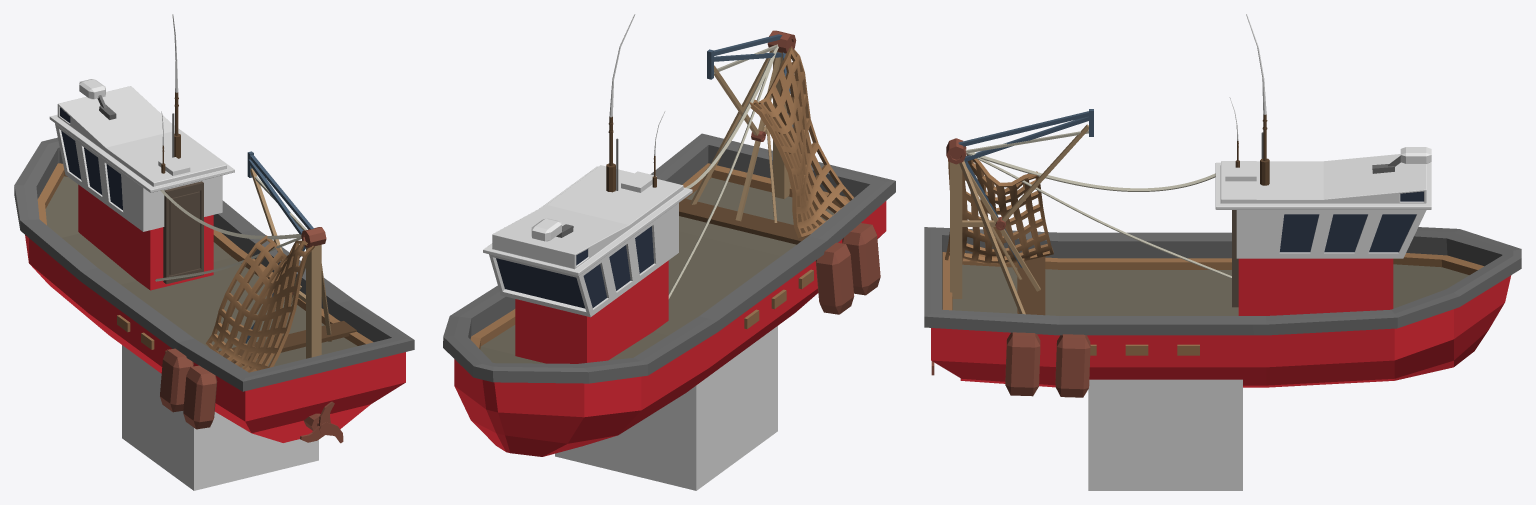
File: Fischerboot.glb
3 renders of one model, left to right at view 1: azimuth 30°, elevation 25°; view 2: azimuth 150°, elevation 25°; view 3: azimuth 270°, elevation 25°, orthographic. The views are drawn at different scales.
Visible parts, largest first — view 1: Cube.001, Cube; view 2: Cube.001, Cube; view 3: Cube.001, Cube.
Boxes of the visible parts, x1,y1,x2,y2 form: Cube.001: (14, 14, 414, 443); Cube: (122, 345, 318, 490); Cube.001: (443, 14, 895, 456); Cube: (555, 326, 777, 490); Cube.001: (924, 14, 1521, 397); Cube: (1088, 379, 1242, 490).
Bounding box in the file's own units: 3.3 × 6.27 × 7.73.
